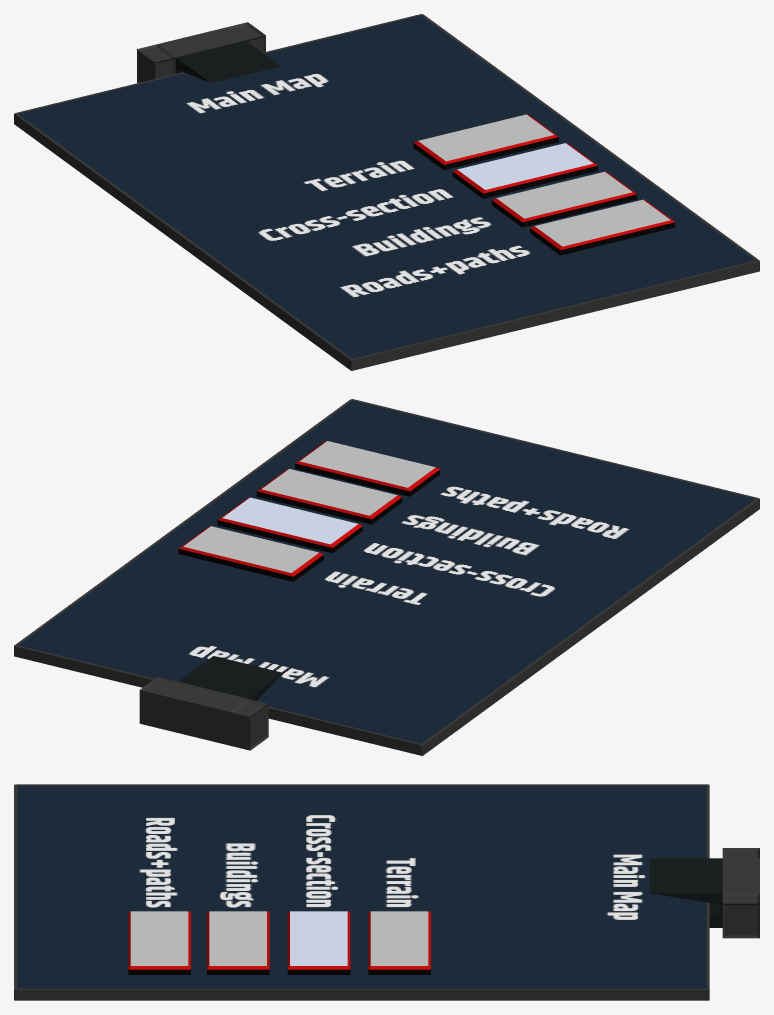
File: clip_main.obj
3 views of the same model, one above another, from view 1: azimuth 30°, elevation 25°; view 2: azimuth 150°, elevation 25°; view 3: azimuth 270°, elevation 25° (orthographic). The views are drawn at different scales.
Visible parts, largest first — view 1: clipboard_main; view 2: clipboard_main; view 3: clipboard_main.
Boxes of the visible parts, bbox=[...] form: clipboard_main: bbox=[14, 14, 759, 370]; clipboard_main: bbox=[14, 399, 759, 755]; clipboard_main: bbox=[14, 784, 759, 1000].
Size of the model in its own units: 0.2144 by 0.0169 by 0.3289.
16 materials, 1 textured.
